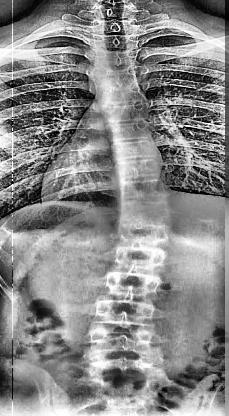Vertebrae: (86, 328, 158, 362), (91, 297, 158, 329), (100, 269, 165, 301), (87, 64, 144, 96), (113, 222, 173, 252), (117, 177, 173, 209), (106, 246, 170, 274), (116, 201, 177, 229), (109, 135, 164, 165), (113, 156, 167, 184), (92, 85, 150, 109), (102, 116, 154, 142), (89, 48, 145, 72), (96, 100, 152, 122), (92, 31, 142, 53), (90, 16, 142, 36)
